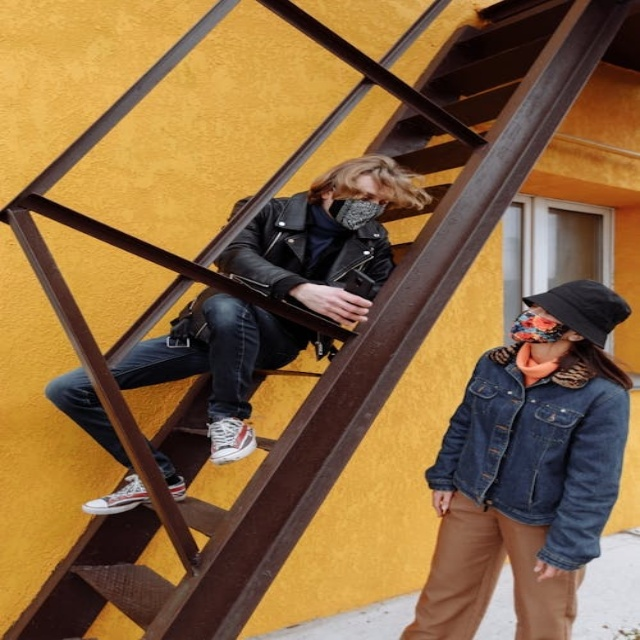Mascara: (510, 308, 570, 343), (335, 198, 386, 229)
Sin_gafas: (335, 183, 393, 206)
Sin_guantes: (289, 279, 370, 329), (532, 556, 581, 581), (424, 486, 454, 517)
